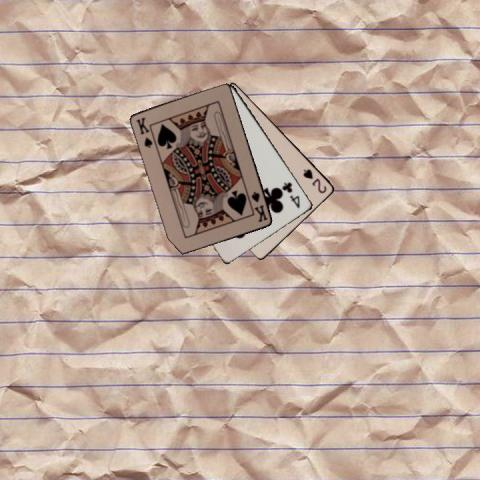2s: (300, 166, 328, 195)
4c: (280, 180, 302, 210)
Ks: (133, 114, 154, 149), (249, 189, 269, 223)
